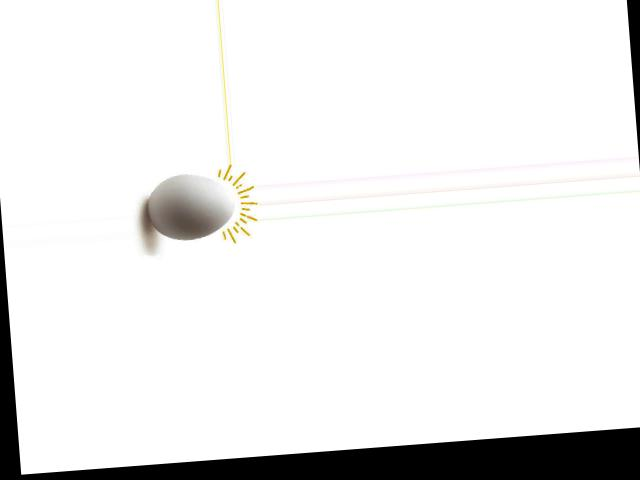egg: (145, 169, 236, 242)
